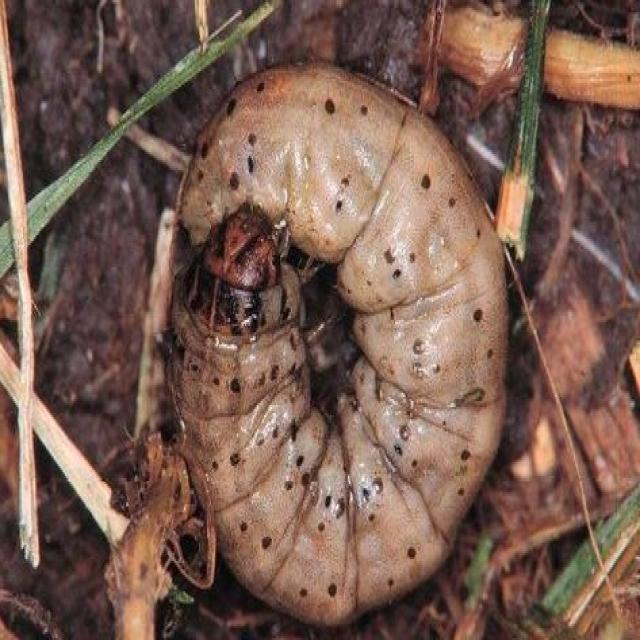black cutworm: (129, 65, 532, 626)
